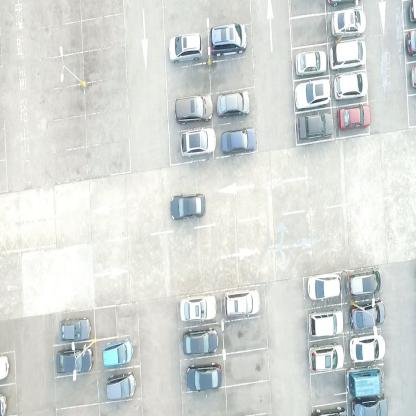car: (209, 22, 249, 56), (348, 298, 386, 333), (346, 363, 384, 396), (294, 79, 332, 112), (345, 266, 383, 298), (329, 38, 367, 70), (180, 126, 216, 159), (297, 110, 334, 142), (173, 96, 213, 125), (182, 326, 218, 358), (168, 31, 202, 64), (333, 70, 368, 102), (308, 307, 344, 338), (224, 288, 261, 318), (348, 334, 385, 364), (330, 8, 367, 38), (56, 347, 94, 376), (308, 342, 344, 372), (170, 192, 206, 222), (220, 126, 256, 156), (179, 295, 216, 323), (184, 363, 222, 390), (338, 102, 371, 131), (217, 90, 250, 119), (106, 371, 136, 402), (308, 273, 341, 300), (102, 340, 133, 368), (295, 50, 327, 76), (58, 317, 90, 342), (352, 395, 388, 415)
